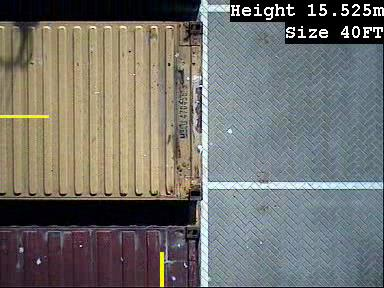groundmarker_2: (194, 27, 253, 108)
